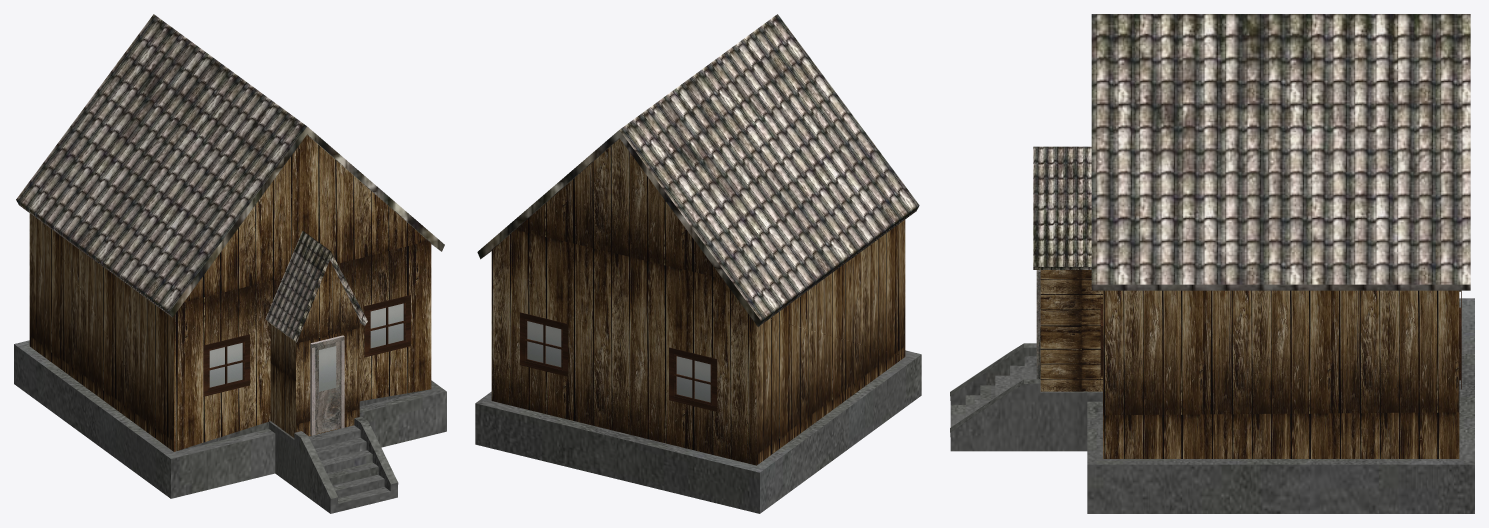
3 renders of one model, left to right at view 1: azimuth 30°, elevation 25°; view 2: azimuth 150°, elevation 25°; view 3: azimuth 270°, elevation 25°, orthographic. The views are drawn at different scales.
Parts seen in each view (by area): view 1: 对象002, 对象004, 对象001, 对象003, 对象005, Pivot001, FixedWindow001, FixedWindow002, 对象008, 对象006, 对象007; view 2: 对象002, 对象004, 对象001, FixedWindow004, FixedWindow005, 对象010, 对象011; view 3: 对象004, 对象002, 对象001, 对象003, 对象005.
Part boxes in pixels (x1,y1,x2,y2): 对象002: [29, 135, 431, 451]; 对象004: [16, 14, 444, 317]; 对象001: [14, 340, 446, 513]; 对象003: [270, 260, 359, 437]; 对象005: [265, 231, 367, 342]; Pivot001: [310, 335, 344, 435]; FixedWindow001: [203, 334, 249, 396]; FixedWindow002: [364, 295, 410, 357]; 对象008: [370, 303, 403, 348]; 对象006: [209, 343, 242, 387]; 对象007: [319, 346, 336, 391]; 对象002: [491, 138, 905, 465]; 对象004: [477, 14, 919, 326]; 对象001: [475, 350, 921, 513]; FixedWindow004: [669, 347, 717, 411]; FixedWindow005: [520, 312, 567, 376]; 对象010: [676, 356, 710, 402]; 对象011: [527, 321, 561, 367]; 对象004: [1091, 14, 1470, 290]; 对象002: [1103, 290, 1459, 458]; 对象001: [950, 298, 1474, 513]; 对象003: [1040, 270, 1102, 391]; 对象005: [1033, 146, 1091, 269].
Size of the model in its own units: 48.06 by 56.19 by 64.1.
6 materials, 6 textured.
